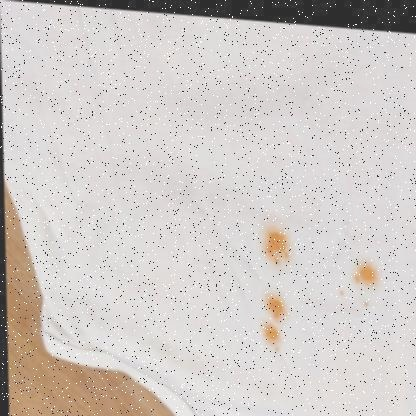kimchi: (248, 289, 296, 350), (263, 224, 295, 270), (349, 256, 386, 290), (333, 282, 357, 303), (363, 300, 372, 311)
